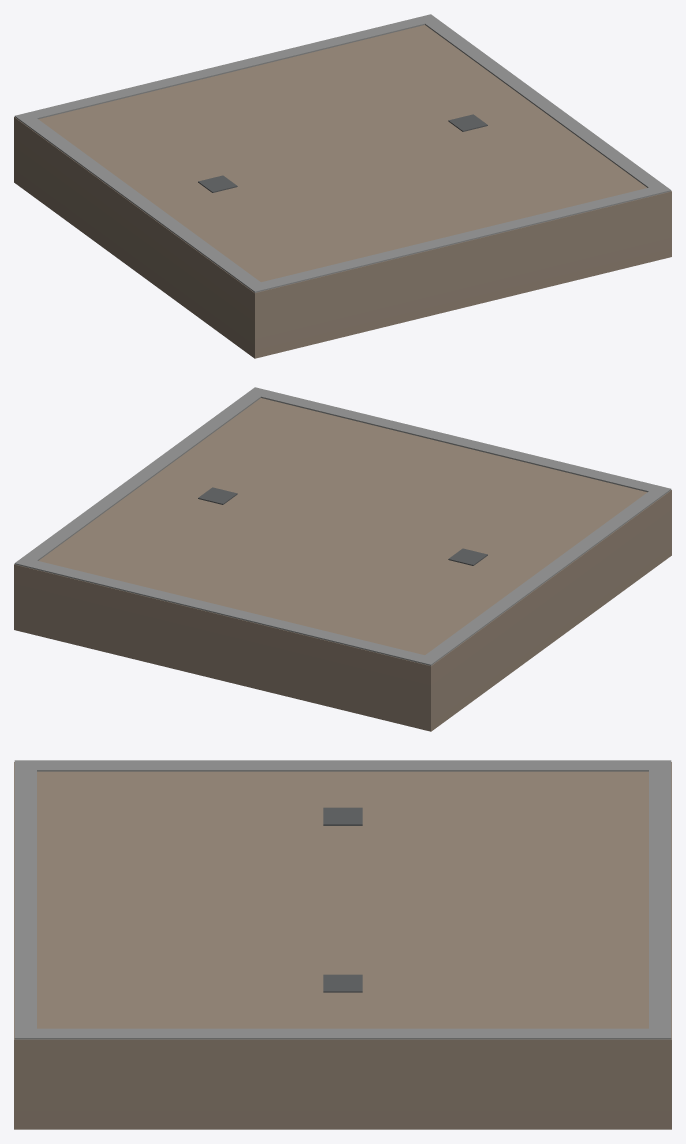
File: slab2_regocrete.glb
3 views of the same model, one above another, from view 1: azimuth 30°, elevation 25°; view 2: azimuth 150°, elevation 25°; view 3: azimuth 270°, elevation 25° (orthographic). The views are drawn at different scales.
Parts seen in each view (by area): view 1: slab2_regocrete; view 2: slab2_regocrete; view 3: slab2_regocrete.
Part boxes in pixels (x1=…): slab2_regocrete: x1=14, y1=14, x2=671, y2=358; slab2_regocrete: x1=14, y1=387, x2=671, y2=731; slab2_regocrete: x1=14, y1=760, x2=671, y2=1129.
Size of the model in its own units: 2 by 0.306 by 2.
